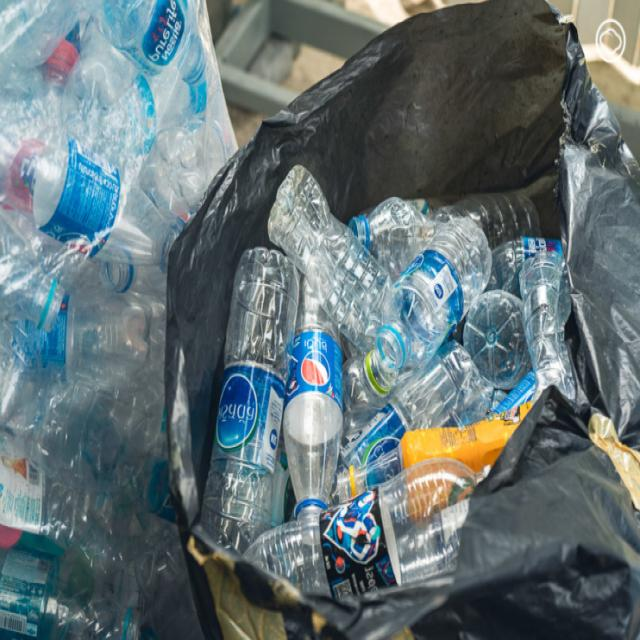plastik: (166, 0, 640, 639), (245, 458, 477, 598), (202, 250, 299, 552), (0, 132, 182, 268), (337, 402, 531, 524), (269, 166, 392, 350), (370, 217, 491, 389), (348, 193, 541, 281), (341, 343, 478, 466), (284, 276, 342, 520), (0, 546, 141, 640), (40, 291, 165, 388), (85, 0, 205, 84), (519, 252, 576, 401), (463, 290, 531, 390)
